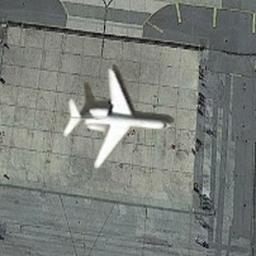Airplane: (62, 63, 174, 168)
